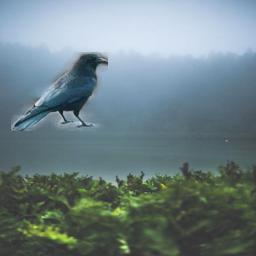Crow: (11, 52, 108, 131)
